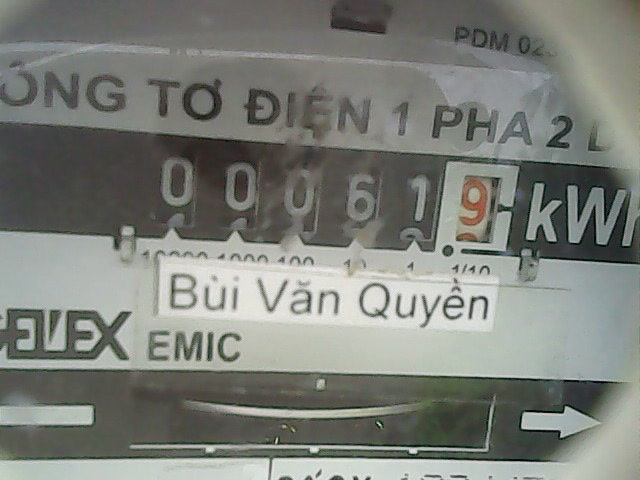phy_plate: (134, 129, 522, 262)
